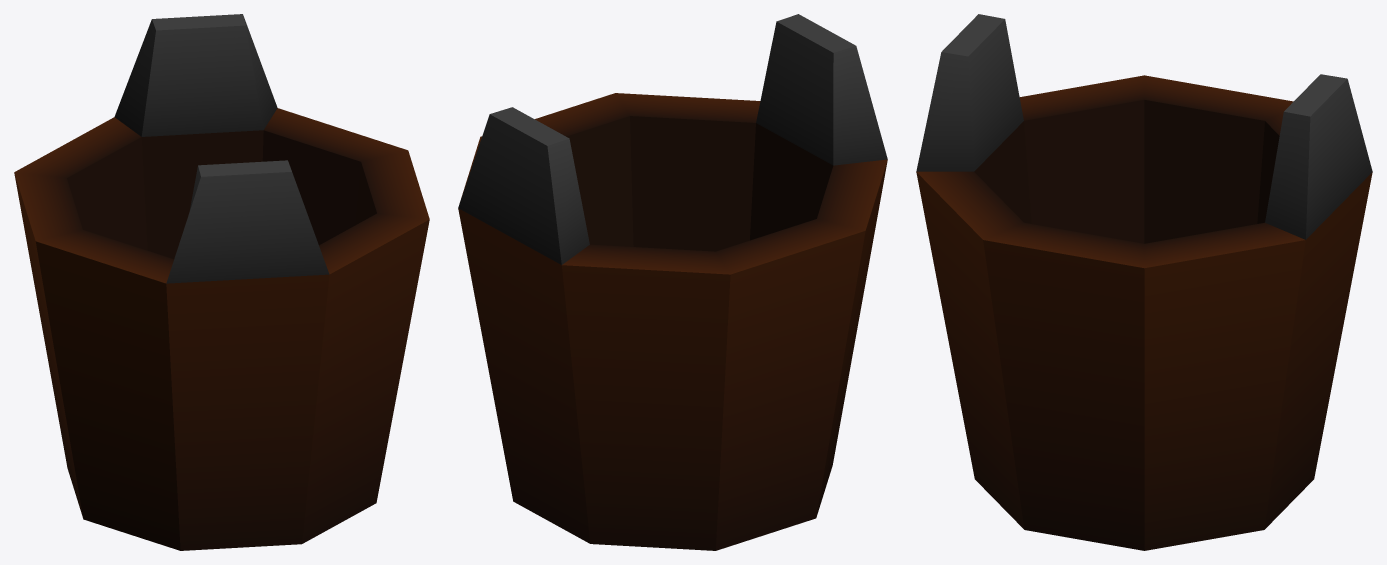
Rendered from bucket.fbx.
3 views of the same model, side by side, from view 1: azimuth 30°, elevation 25°; view 2: azimuth 150°, elevation 25°; view 3: azimuth 270°, elevation 25° (orthographic). The views are drawn at different scales.
Visible parts, largest first — view 1: bucket; view 2: bucket; view 3: bucket.
Boxes of the visible parts, x1=… form: bucket: x1=14, y1=14, x2=429, y2=550; bucket: x1=458, y1=14, x2=887, y2=550; bucket: x1=916, y1=14, x2=1372, y2=550.
Size of the model in its own units: 0.501 by 0.5014 by 0.501.
